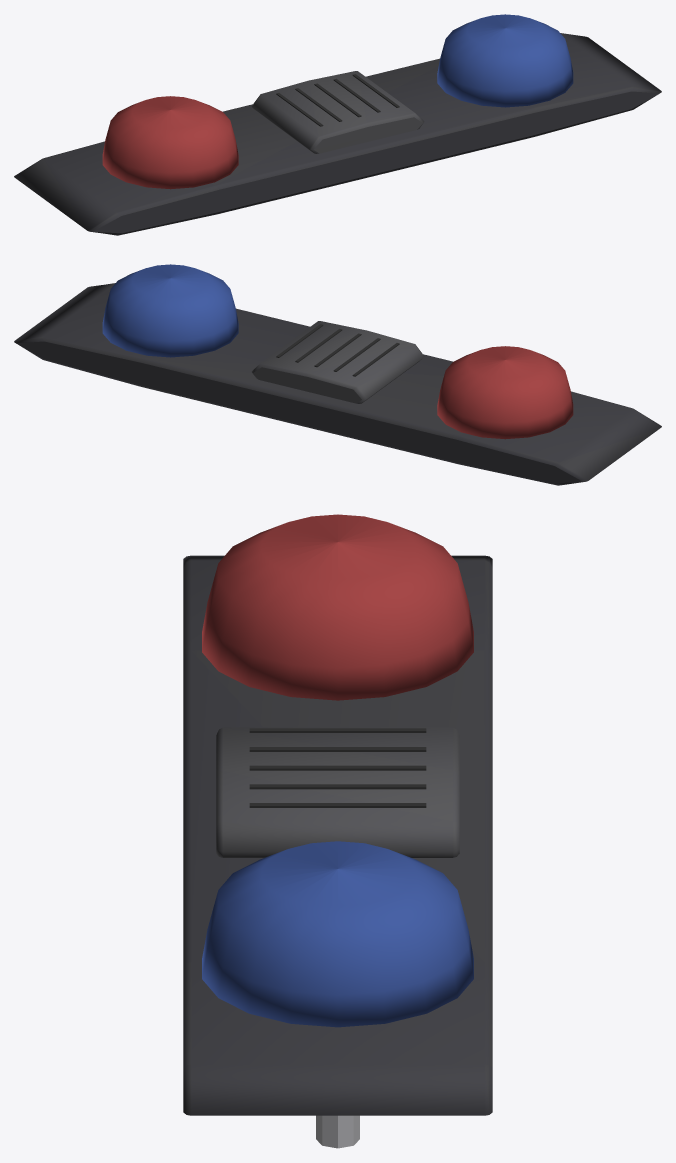
The model's file is cruiser_lightbar_a.glb.
3 renders of one model, top to bottom at view 1: azimuth 30°, elevation 25°; view 2: azimuth 150°, elevation 25°; view 3: azimuth 270°, elevation 25°, orthographic. The views are drawn at different scales.
Visible parts, largest first — view 1: body, lightbar_blue, lightbar_red; view 2: body, lightbar_blue, lightbar_red; view 3: body, lightbar_blue, lightbar_red.
Part boxes in pixels (left/top/right/bottom): body: left=14, top=33, right=661, bottom=235; lightbar_blue: left=437, top=14, right=573, bottom=107; lightbar_red: left=102, top=96, right=238, bottom=189; body: left=14, top=283, right=661, bottom=485; lightbar_blue: left=102, top=264, right=238, bottom=357; lightbar_red: left=437, top=346, right=573, bottom=439; body: left=183, top=555, right=492, bottom=1148; lightbar_blue: left=202, top=841, right=473, bottom=1027; lightbar_red: left=202, top=514, right=473, bottom=700.
Size of the model in its own units: 1.2 by 0.2 by 0.28.
